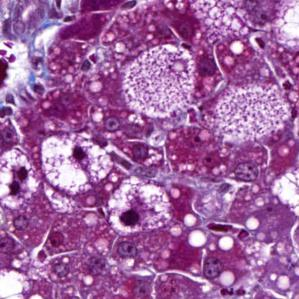ballooning: (37, 132, 116, 197), (99, 178, 175, 240), (0, 147, 40, 210)
